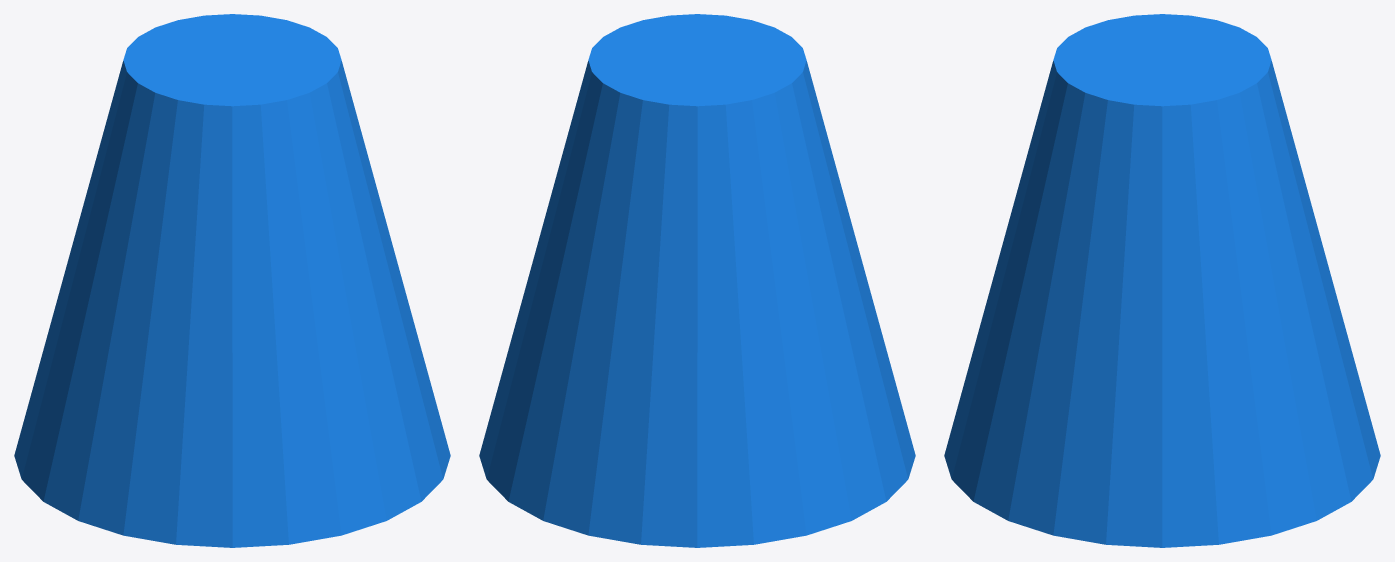
The model's file is Proto_Block_Top_Point_Round_Cropped_01.fbx.
3 views of the same model, side by side, from view 1: azimuth 30°, elevation 25°; view 2: azimuth 150°, elevation 25°; view 3: azimuth 270°, elevation 25° (orthographic).
Parts seen in each view (by area): view 1: Proto_Block_Top_Point_Round_Cropped_01; view 2: Proto_Block_Top_Point_Round_Cropped_01; view 3: Proto_Block_Top_Point_Round_Cropped_01.
Part boxes in pixels (left/top/right/bottom): Proto_Block_Top_Point_Round_Cropped_01: left=14, top=14, right=450, bottom=547; Proto_Block_Top_Point_Round_Cropped_01: left=479, top=14, right=915, bottom=547; Proto_Block_Top_Point_Round_Cropped_01: left=944, top=14, right=1380, bottom=547.
Bounding box in the file's own units: 1 × 1 × 1.
